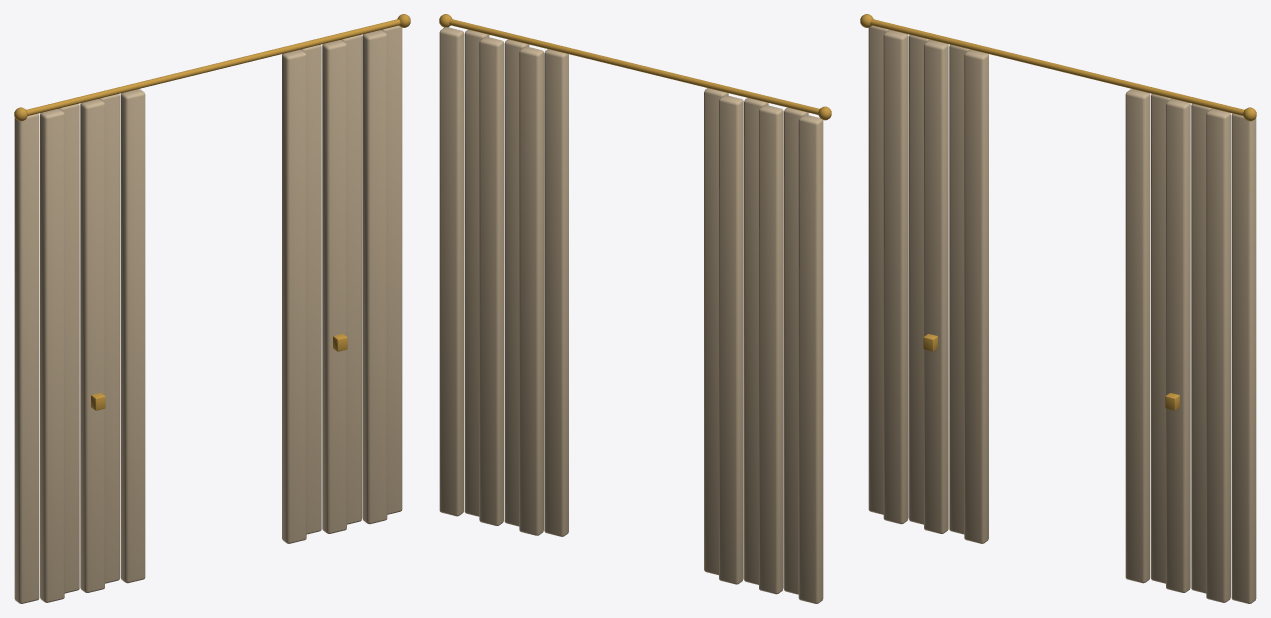
Rendered from Curtains_Pair_1.6m.glb.
The picture shows the model from 3 angles, left to right: view 1: azimuth 30°, elevation 25°; view 2: azimuth 150°, elevation 25°; view 3: azimuth 330°, elevation 25°; orthographic projection.
Parts seen in each view (by area): view 1: Curtains_Pair_1.6m; view 2: Curtains_Pair_1.6m; view 3: Curtains_Pair_1.6m.
Boxes of the visible parts, box(x1,y1,x2,y2) form: Curtains_Pair_1.6m: box(14, 14, 410, 603); Curtains_Pair_1.6m: box(439, 14, 831, 603); Curtains_Pair_1.6m: box(860, 14, 1256, 603).
Bounding box in the file's own units: 1.96 × 2.36 × 0.145.
